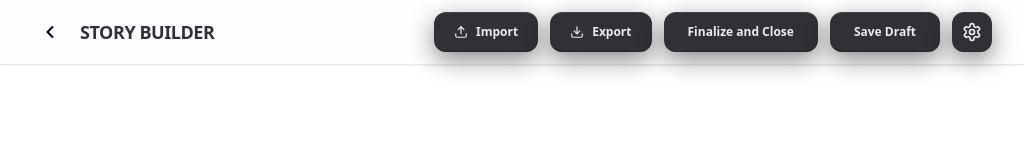
Test: AppShellTopBar › opens the Story Builder settings menu
This screenshot has width=1024, height=161.
Press the mouse on the button named "story builder settings": (972, 32) [952, 12, 992, 52]
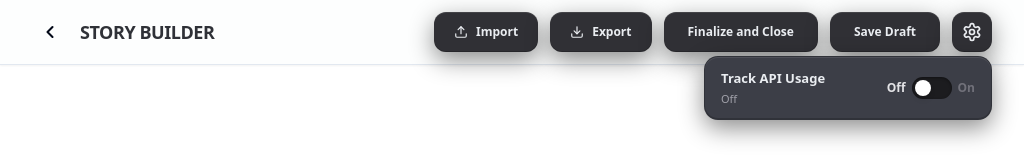
Check: the text "Track API Usage" is shown, box [721, 69, 825, 88]
